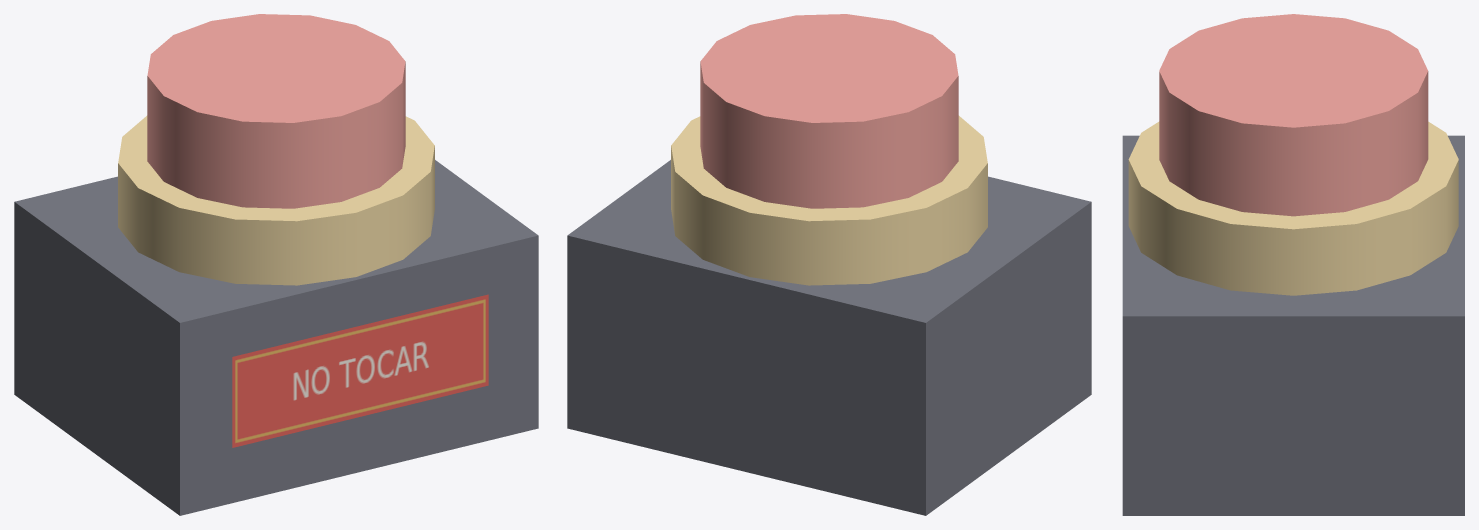
Rendered from 14_boton_no_tocar.glb.
The picture shows the model from 3 angles, left to right: view 1: azimuth 30°, elevation 25°; view 2: azimuth 150°, elevation 25°; view 3: azimuth 270°, elevation 25°; orthographic projection. The views are drawn at different scales.
Parts seen in each view (by area): view 1: body (×4); view 2: body (×3); view 3: body (×3).
Boxes of the visible parts, x1,y1,x2,y2 form: body (×4): (14, 14, 538, 515); body (×3): (567, 14, 1091, 515); body (×3): (1122, 14, 1464, 515).
Bounding box in the file's own units: 0.35 × 0.32 × 0.282.
Materials: 4 (1 with a texture image).
